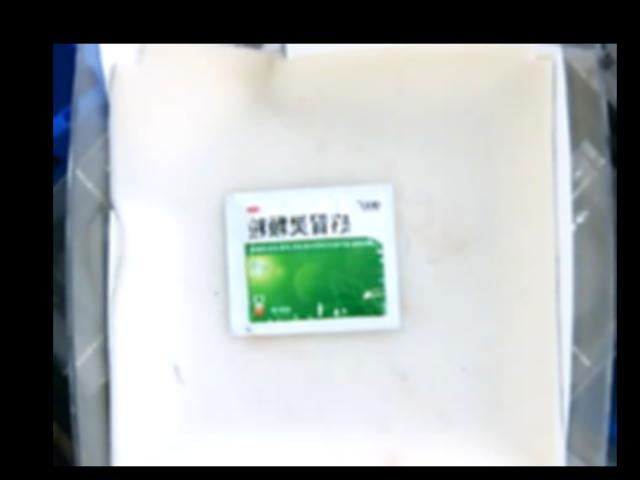Medicine: (226, 182, 399, 336)
